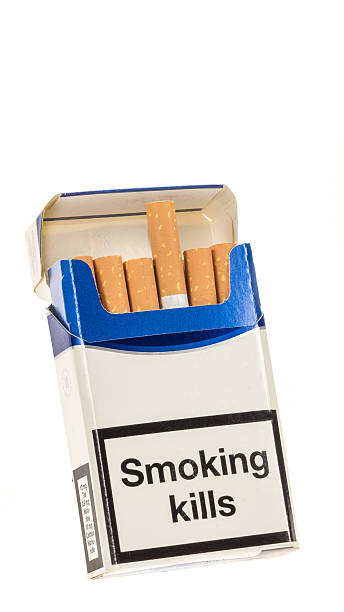cigarette: (28, 184, 301, 581), (143, 200, 190, 310), (93, 254, 132, 315), (124, 256, 161, 314), (182, 246, 217, 304), (211, 242, 237, 305)
